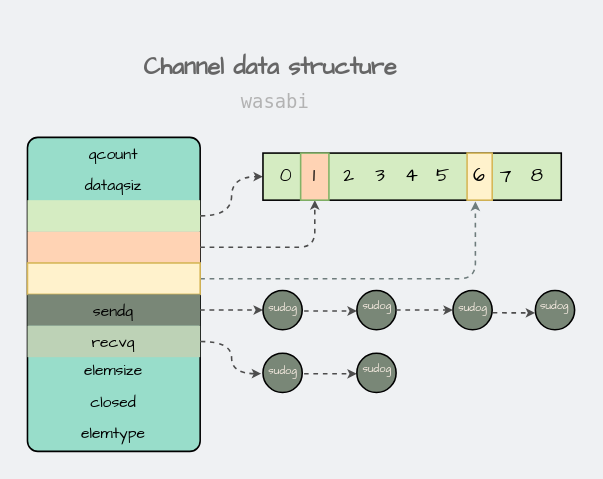
This 603x479 diagram has some shape labels left out. The shapes that lost their labels are listed below. From the top down, each one's box as (x1, y1, x2, y2) in pixels, then its label:
(27, 199, 199, 231): buf
(27, 231, 199, 262): sendx
(26, 261, 200, 294): recvx
